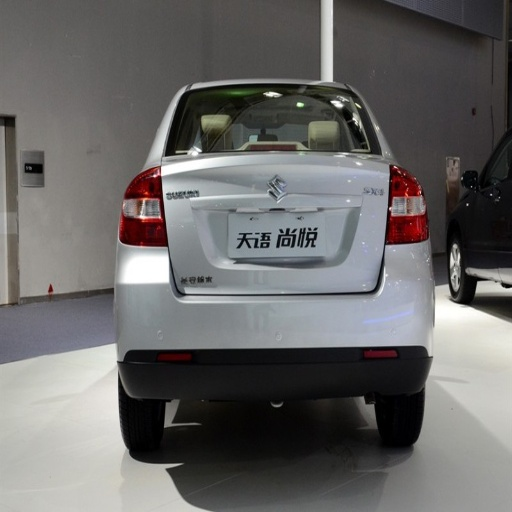back_bumper: (119, 241, 438, 405)
